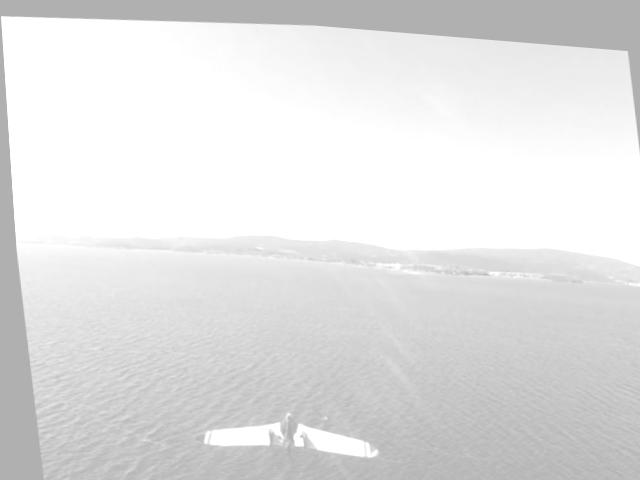hedef: (169, 378, 378, 480)
